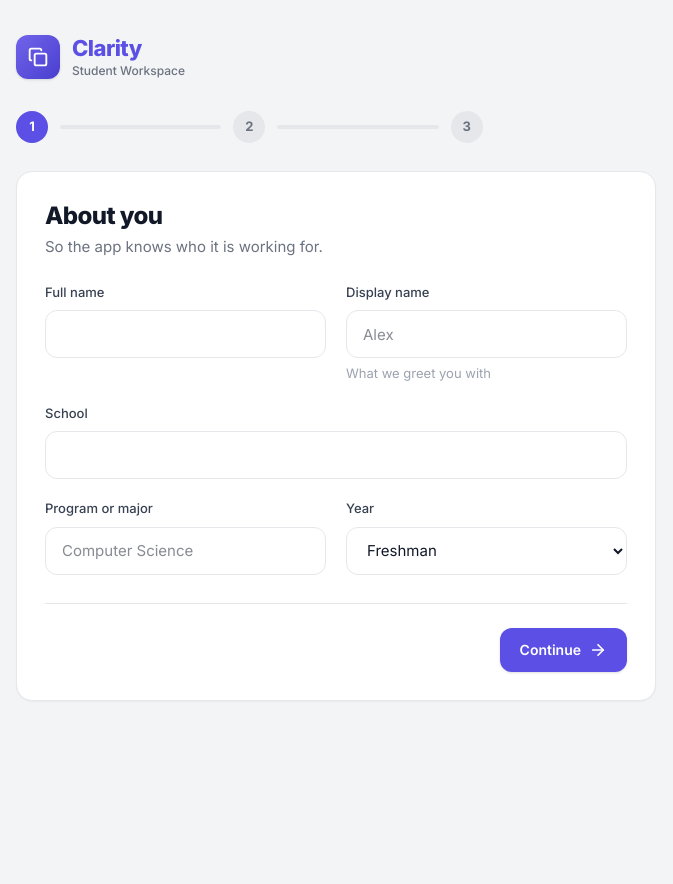
Test: Onboarding class creation › stops at the first class failure and does not navigate
In the field labelled "Full name": [186, 334] box [45, 310, 326, 358], type "Ada Lovelace"
In the field labelled "School": [336, 455] box [45, 431, 627, 479], type "Analytical Engines"
Click the button "Continue": [563, 650] box [500, 628, 627, 672]
(page scrolled)
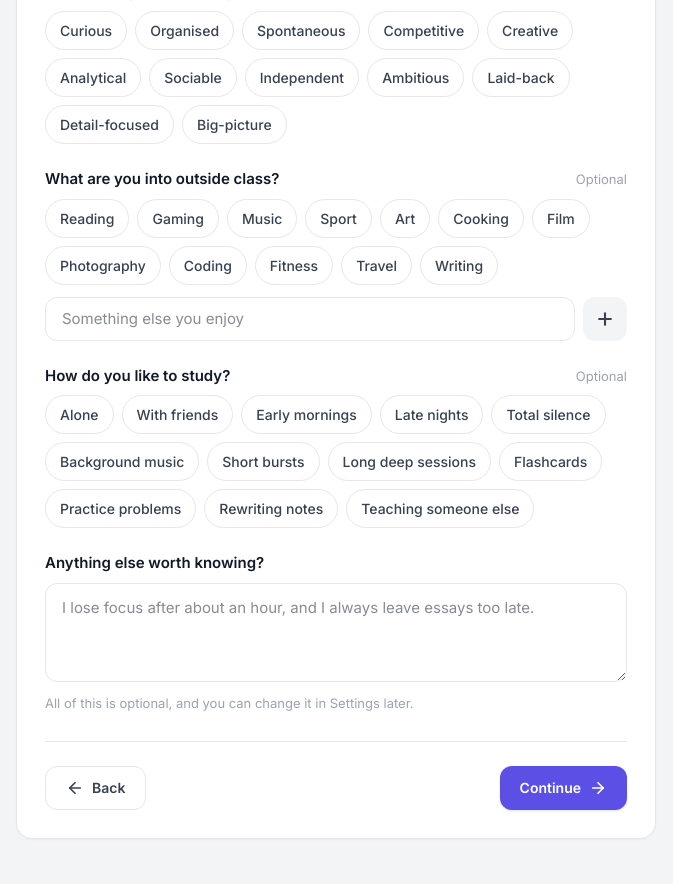
Click the button "Continue": [563, 788] box [500, 766, 627, 810]
(page scrolled)
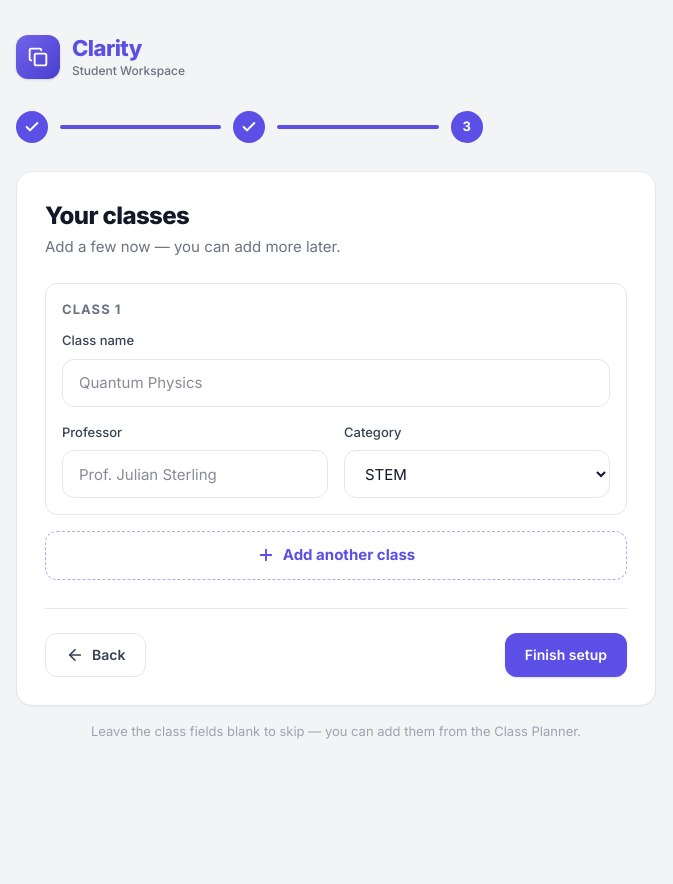
In the field labelled "Class name": [336, 382] box [62, 358, 610, 406], type "First Class"
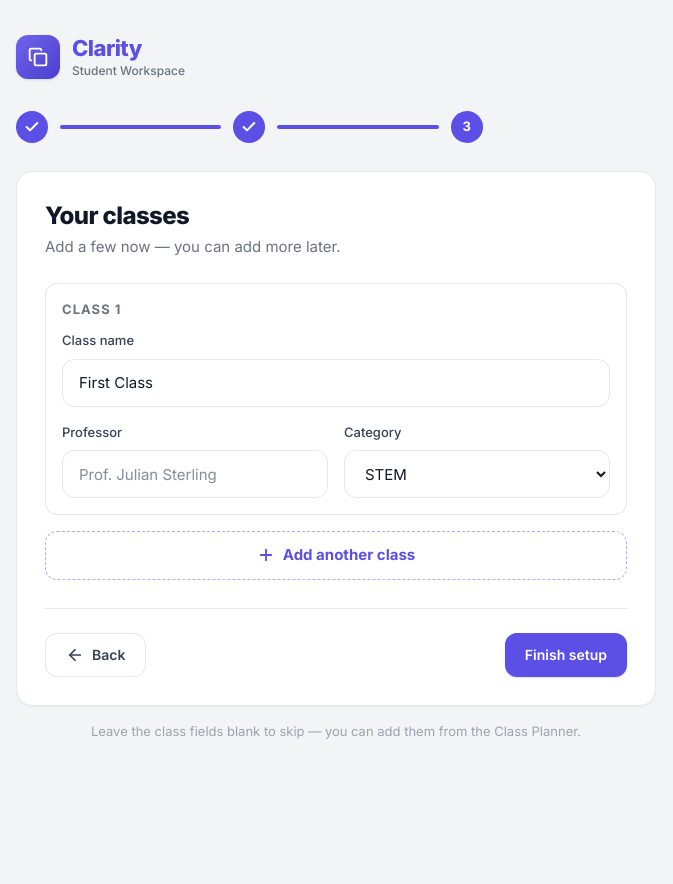
Click the button "Add another class": [336, 555] box [45, 531, 627, 580]
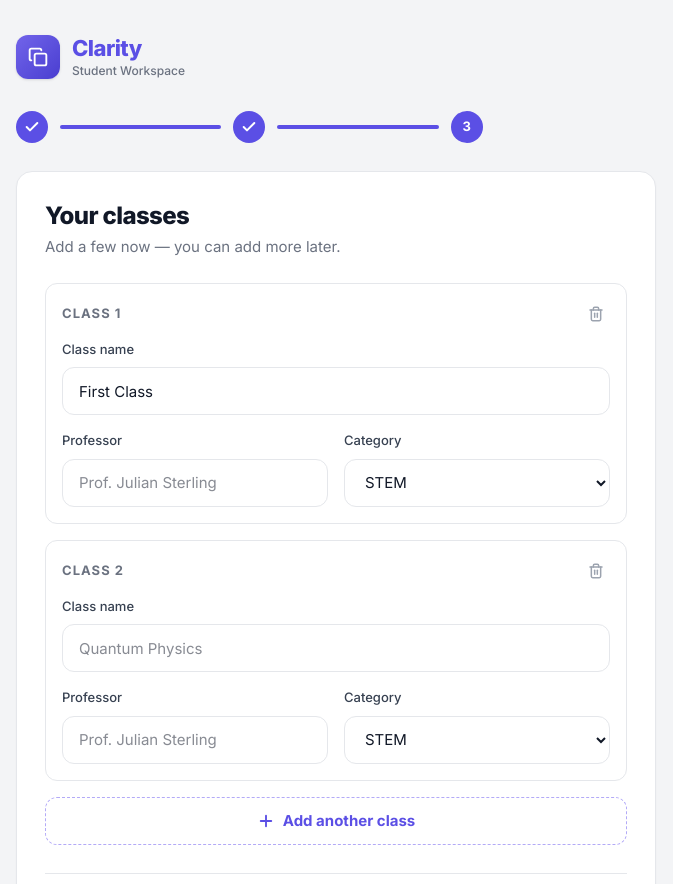
In the 2nd field labelled "Class name": [336, 648] box [62, 624, 610, 672], type "Second Class"
(page scrolled)
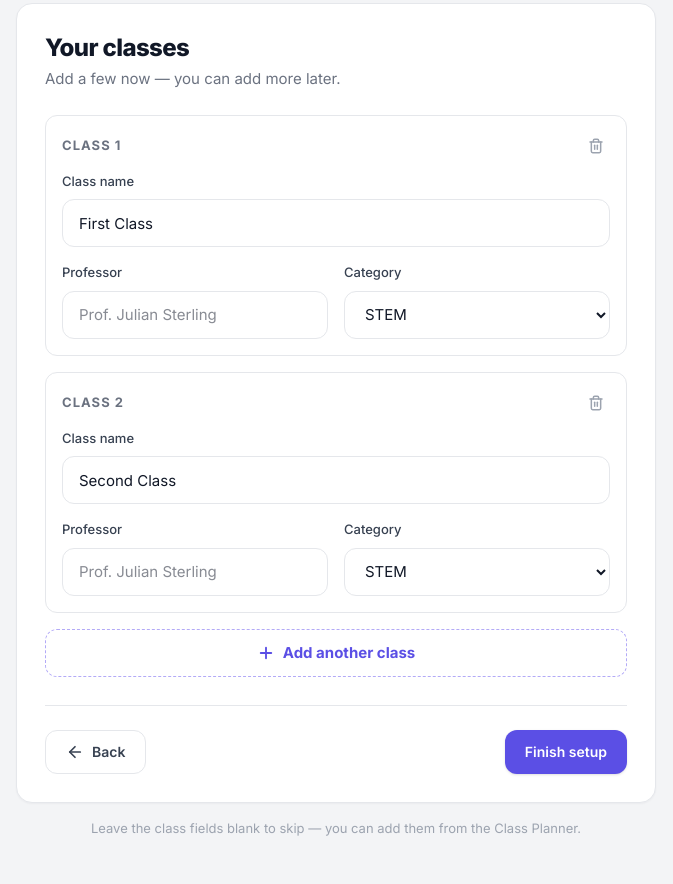
Click the button "Finish setup": [566, 752] box [505, 730, 627, 774]
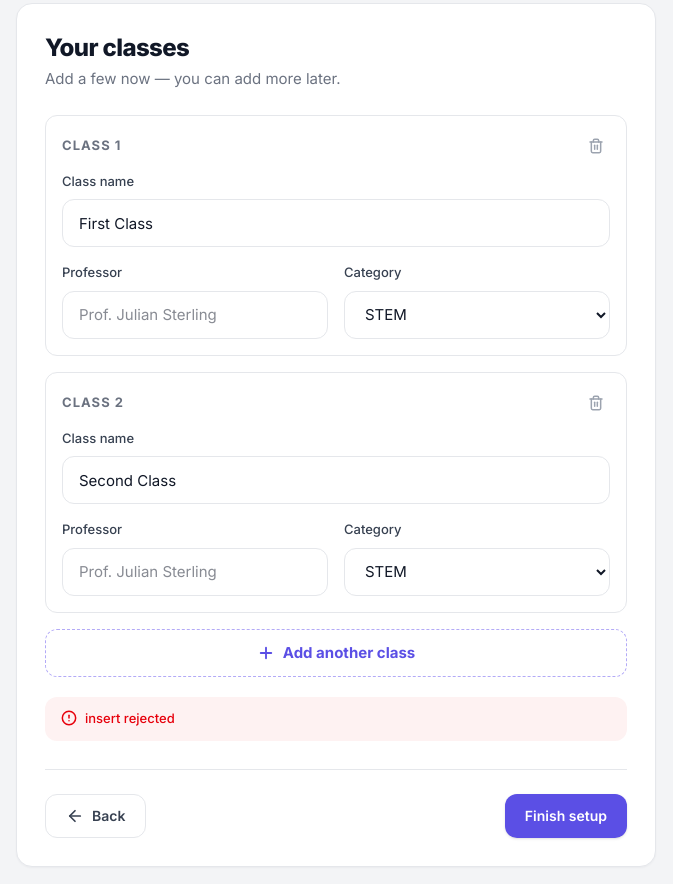
Check: the message reads "insert rejected", box [85, 710, 175, 726]
